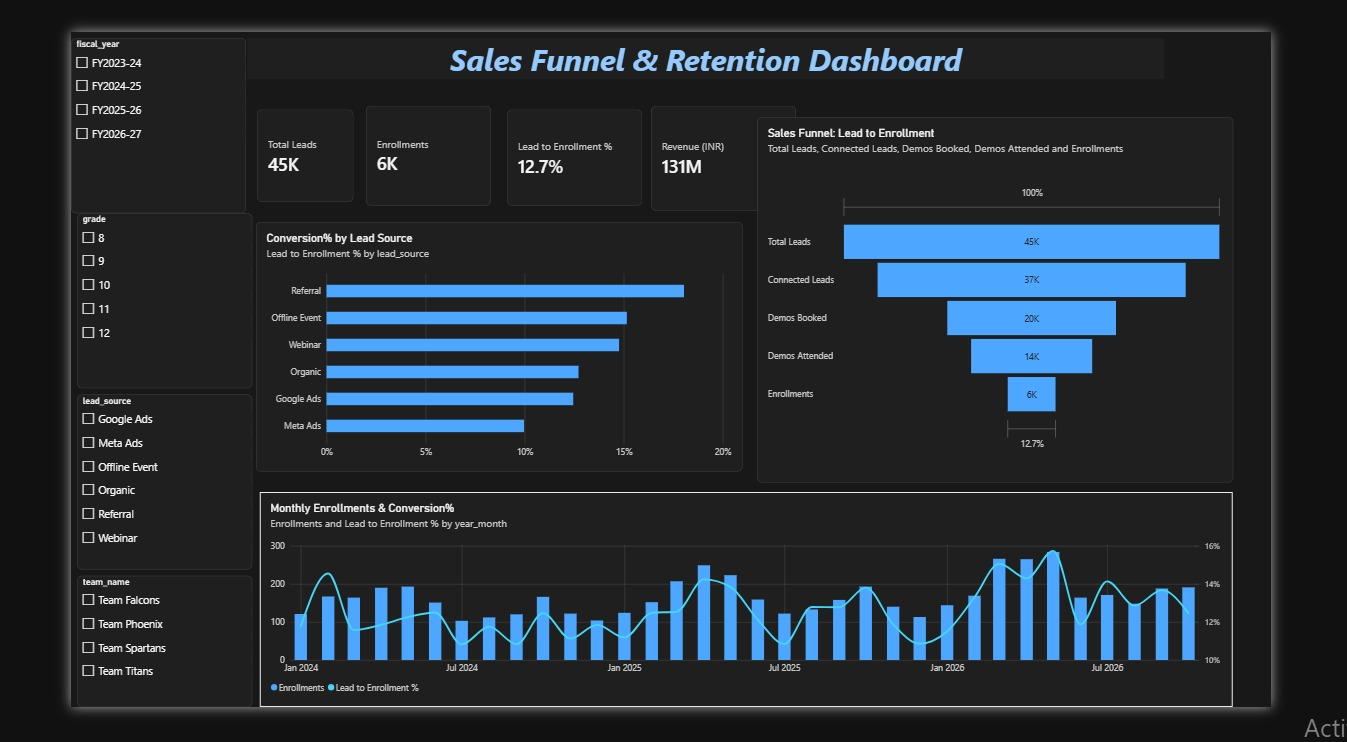

The page's visual inventory and layout, read from the dashboard file:
{"tool":"powerbi","page":{"name":"Sales Funnel","canvas":[1920,1080],"ordinal":0},"visuals":[{"type":"slicer","fields":{"Values":["dim_date.fiscal_year"]},"box":[0,10,280,280],"z":0},{"type":"slicer","fields":{"Values":["dim_grade.grade"]},"box":[10,290,280,280],"z":1000},{"type":"slicer","fields":{"Values":["dim_lead_source.lead_source"]},"box":[10,580,280,280],"z":2000},{"type":"slicer","fields":{"Values":["dim_team.team_name"]},"box":[10,870,280,210],"z":3000},{"type":"cardVisual","fields":{"Data":["fact_leads.Total Leads"]},"box":[297,123.1,154,148],"z":4000},{"type":"cardVisual","fields":{"Data":["fact_leads.Enrollments"]},"box":[471,117.1,200,160],"z":5000},{"type":"cardVisual","fields":{"Data":["fact_leads.Lead to Enrollment %"]},"box":[697,123.1,216,154],"z":6000},{"type":"cardVisual","fields":{"Data":["fact_enrollments.Revenue (INR)"]},"box":[927,117.1,232,168],"z":7000},{"type":"lineClusteredColumnComboChart","title":"Monthly Enrollments & Conversion%","fields":{"Category":["dim_date.year_month"],"Y":["fact_leads.Enrollments"],"Y2":["fact_leads.Lead to Enrollment %"]},"box":[302.6,736.9,1556,344],"z":8000},{"type":"clusteredBarChart","title":"Conversion% by Lead Source","fields":{"Category":["dim_lead_source.lead_source"],"Y":["fact_leads.Lead to Enrollment %"]},"box":[296.4,304.6,778,399.3],"z":9000},{"type":"funnel","title":"Sales Funnel: Lead to Enrollment","fields":{"Y":["fact_leads.Total Leads","fact_leads.Connected Leads","fact_leads.Demos Booked","fact_leads.Demos Attended","fact_leads.Enrollments"]},"box":[1097.1,135.8,761.6,584.6],"z":10000},{"type":"textbox","box":[282,10.3,1467.6,65.9],"z":11000}]}

Visuals, with their boxes in screenshot pixels (x1, y1, x2, y2), scaled from the page's 1920x1080 canvas onto the 1347x742 screenshot:
slicer - dim_date.fiscal_year: [0,7,196,199]
slicer - dim_grade.grade: [7,199,203,392]
slicer - dim_lead_source.lead_source: [7,398,203,591]
slicer - dim_team.team_name: [7,598,203,741]
cardVisual - fact_leads.Total Leads: [208,85,316,186]
cardVisual - fact_leads.Enrollments: [330,80,471,190]
cardVisual - fact_leads.Lead to Enrollment %: [489,85,641,190]
cardVisual - fact_enrollments.Revenue (INR): [650,80,813,196]
"Monthly Enrollments & Conversion%" lineClusteredColumnComboChart: [212,506,1304,741]
"Conversion% by Lead Source" clusteredBarChart: [208,209,754,484]
"Sales Funnel: Lead to Enrollment" funnel: [770,93,1304,495]
textbox: [198,7,1227,52]
